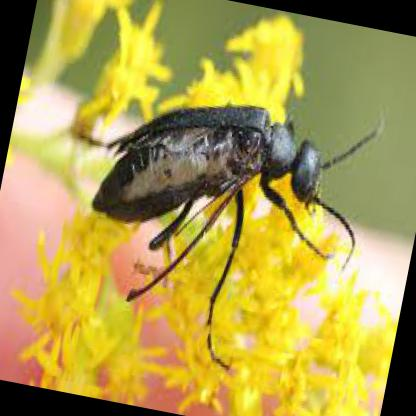blister beetle: (89, 107, 379, 302)
